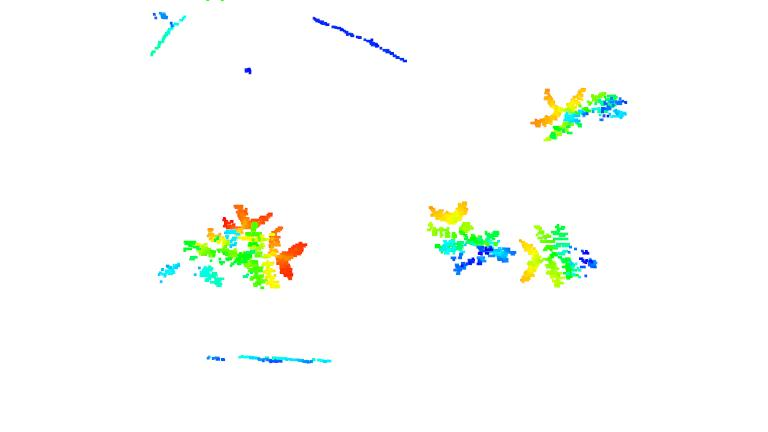chickpea: (154, 202, 308, 294), (420, 199, 523, 275), (530, 85, 633, 143), (518, 225, 598, 291)
